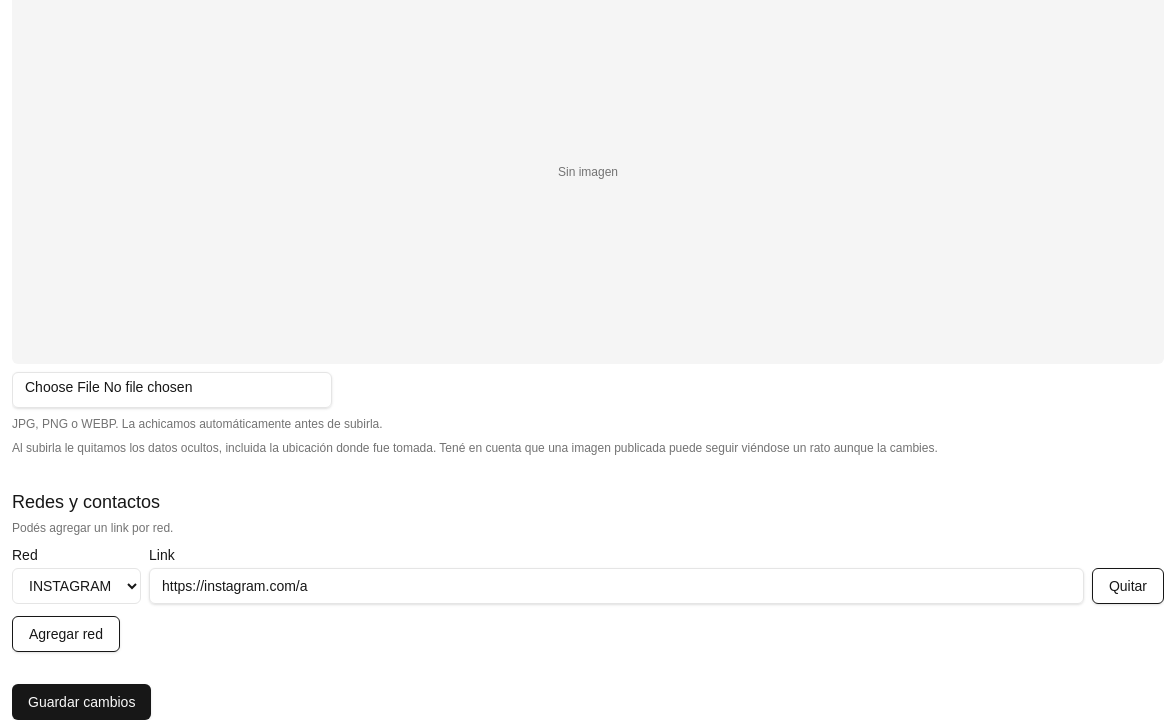
Test case: ProfileForm - social rows survive an action boundary › keeps the values the owner typed when the save is rejected
This screenshot has width=1176, height=720.
(page scrolled)
Replace the text in the field labelled "Link" with "https://instagram.com/corregido": x=616, y=586 top-left (149, 568), bottom-right (1084, 604)
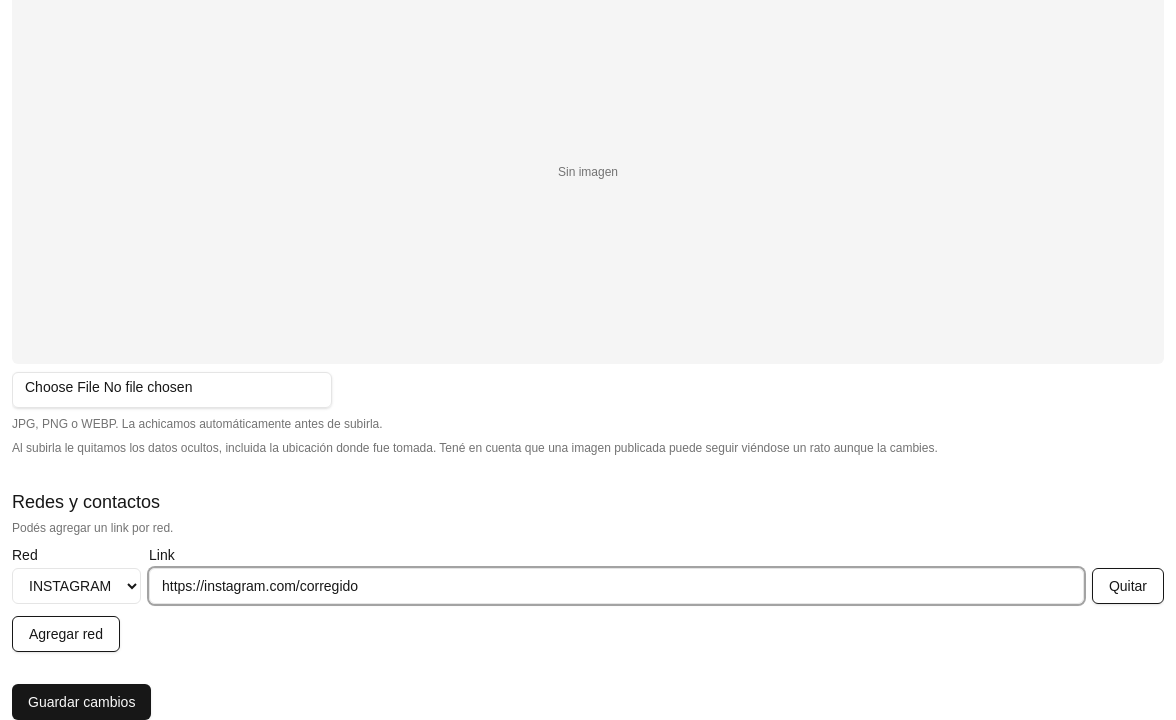
Click the button "Guardar cambios": x=82, y=702 top-left (12, 684), bottom-right (151, 719)
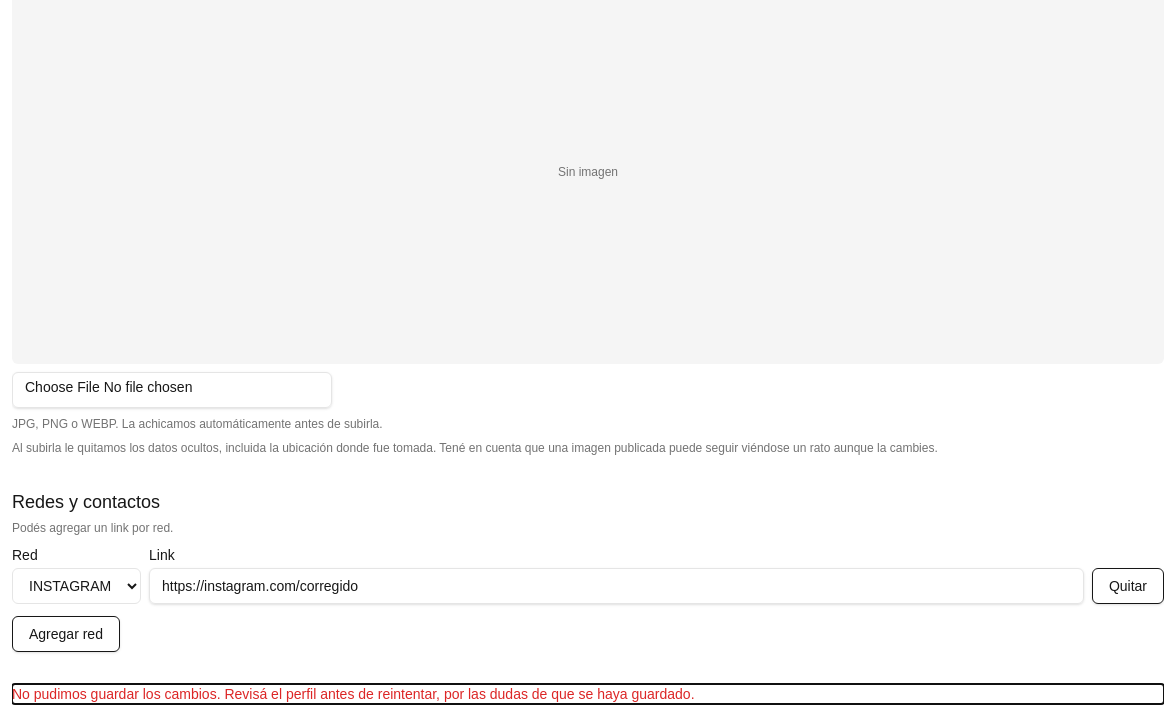
Expected: the text "No pudimos guardar los cambios. Revisá el perfil antes de reintentar, por las dudas de que se haya guardado." is shown, top-left (12, 686), bottom-right (694, 702)
